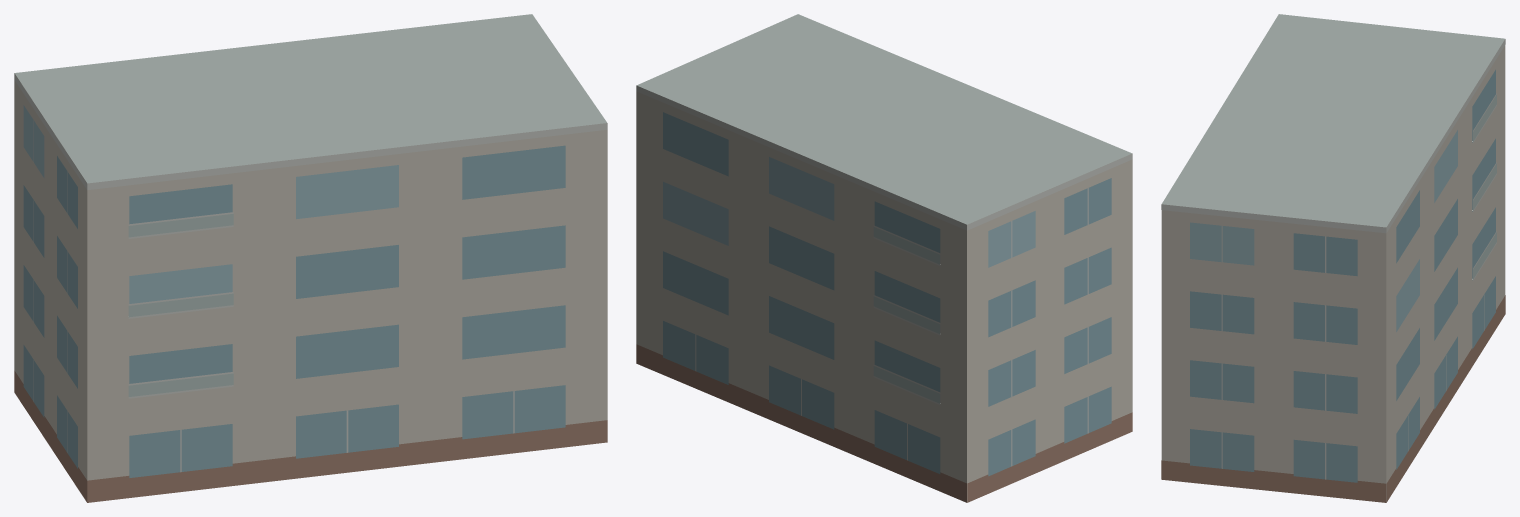
Rendered from survey-upis-32950151.glb.
3 renders of one model, left to right at view 1: azimuth 30°, elevation 25°; view 2: azimuth 150°, elevation 25°; view 3: azimuth 270°, elevation 25°, orthographic. The views are drawn at different scales.
Visible parts, largest first — view 1: survey-upis-32950151.tmp; view 2: survey-upis-32950151.tmp; view 3: survey-upis-32950151.tmp.
Part boxes in pixels (left/top/right/bottom): survey-upis-32950151.tmp: left=14, top=14, right=607, bottom=502; survey-upis-32950151.tmp: left=636, top=14, right=1132, bottom=502; survey-upis-32950151.tmp: left=1161, top=14, right=1505, bottom=502.
Bounding box in the file's own units: 19.13 × 11.5 × 13.03.
